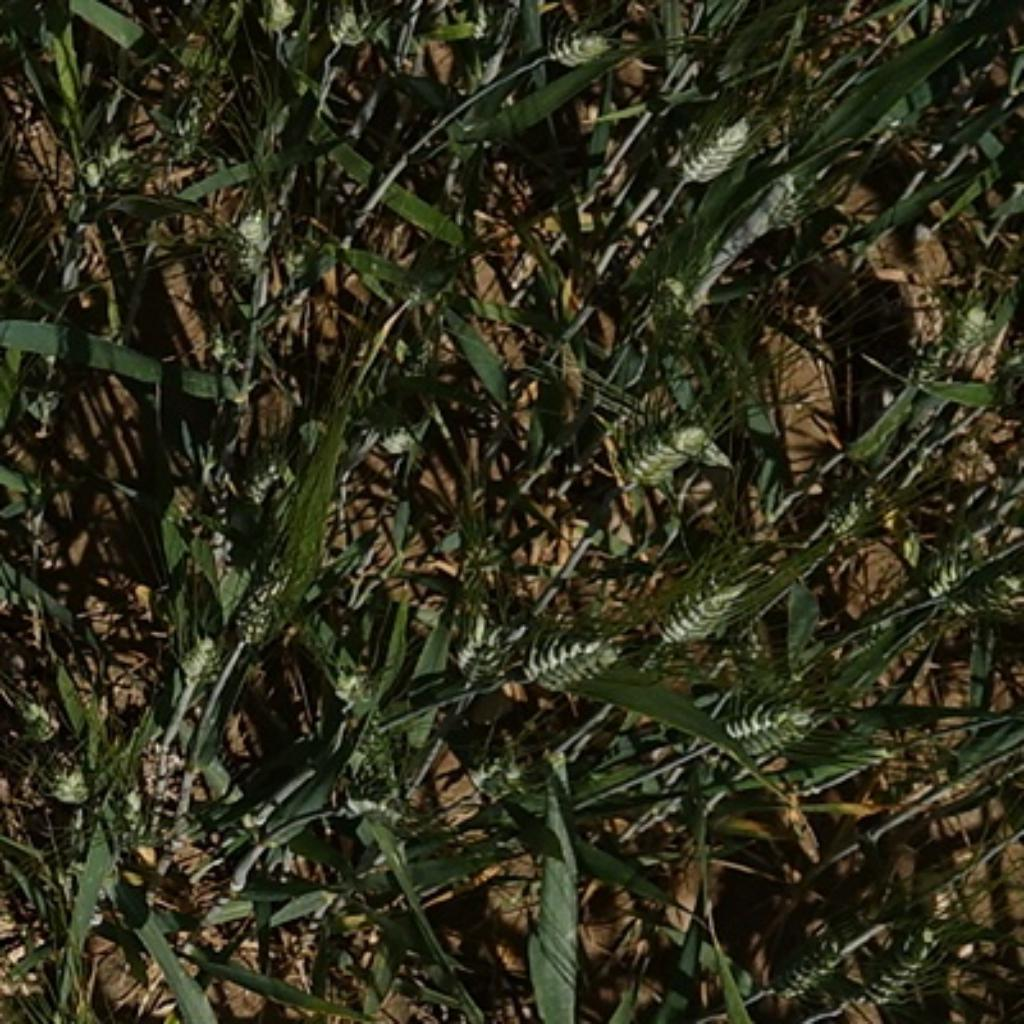0-0: (622, 542, 783, 660), (906, 522, 1024, 655), (217, 537, 335, 650), (20, 714, 138, 826), (445, 558, 529, 688), (839, 926, 949, 1024), (465, 729, 573, 821), (729, 161, 821, 266), (619, 399, 716, 497), (924, 284, 1018, 384), (757, 906, 847, 1006), (66, 115, 151, 217), (205, 189, 302, 277), (811, 455, 903, 545), (179, 424, 248, 542), (250, 424, 314, 550), (509, 619, 627, 686), (353, 401, 445, 483), (709, 686, 819, 752), (668, 97, 755, 179), (317, 770, 412, 844), (309, 2, 371, 79), (240, 2, 309, 64), (332, 652, 396, 716), (540, 12, 614, 66), (174, 627, 225, 680), (652, 259, 688, 323)
